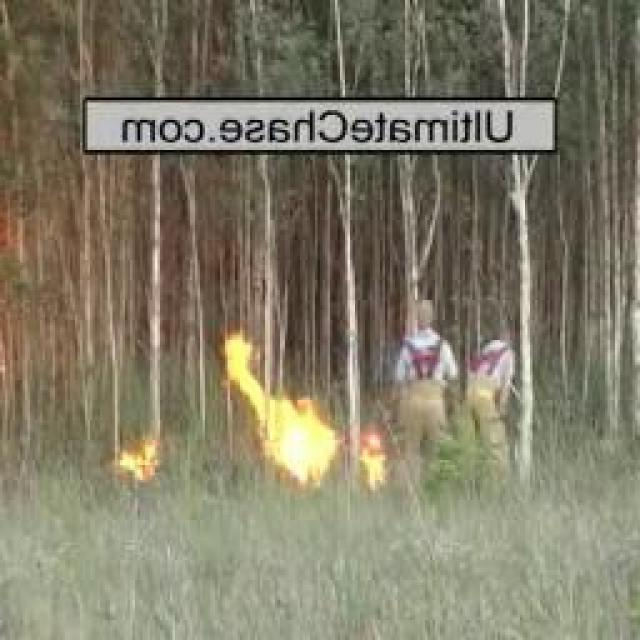Fire: (256, 387, 333, 490), (225, 327, 264, 409), (357, 435, 388, 491), (119, 438, 152, 477)
